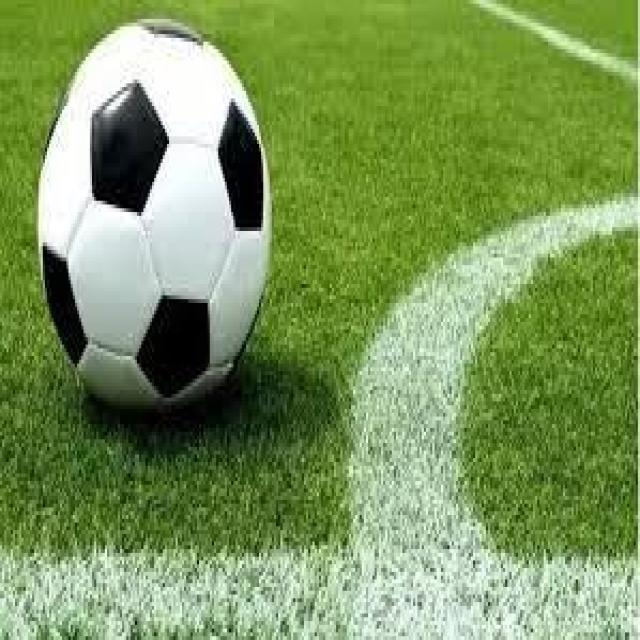Soccer Ball: (37, 19, 276, 424)
